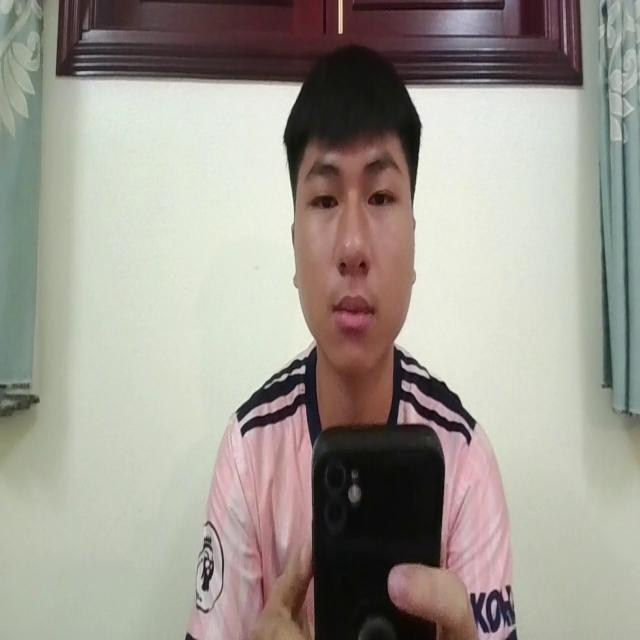phone: (306, 421, 443, 640)
student: (206, 46, 510, 640)
